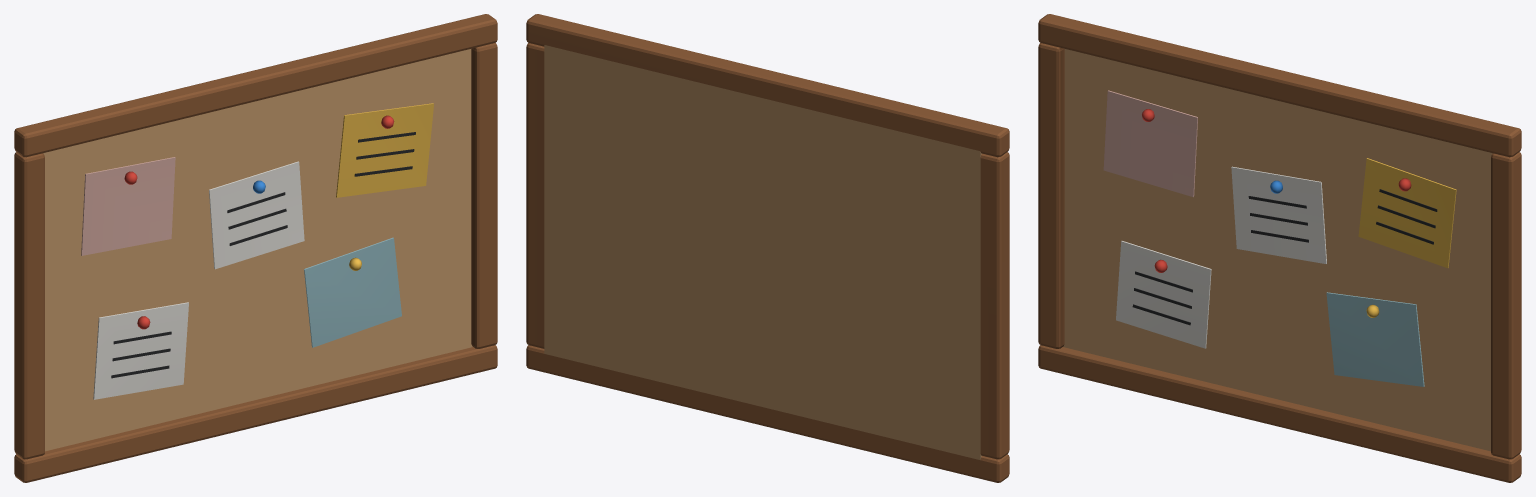
The model's file is corkboard.glb.
3 views of the same model, side by side, from view 1: azimuth 30°, elevation 25°; view 2: azimuth 150°, elevation 25°; view 3: azimuth 330°, elevation 25° (orthographic).
Visible parts, largest first — view 1: corkboard; view 2: corkboard; view 3: corkboard.
Part boxes in pixels (left/top/right/bottom): corkboard: left=14, top=14, right=497, bottom=482; corkboard: left=526, top=14, right=1009, bottom=482; corkboard: left=1038, top=14, right=1521, bottom=482.
Bounding box in the file's own units: 0.74 × 0.52 × 0.033.
